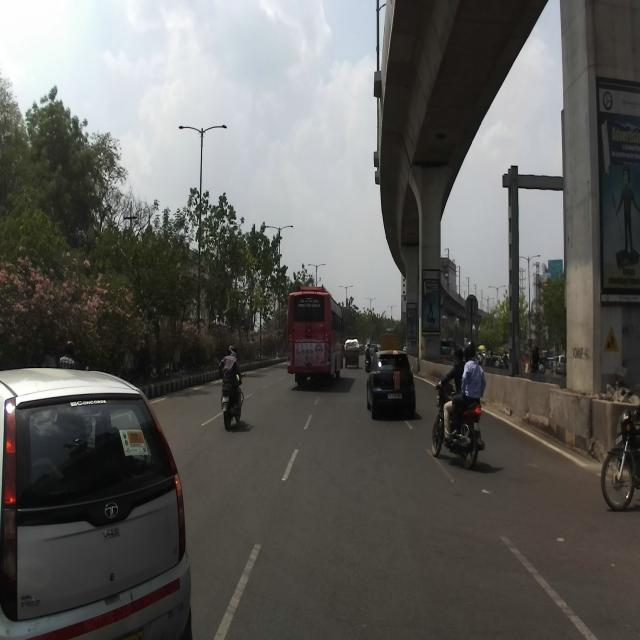car: (0, 368, 193, 639)
motorcycle: (431, 374, 484, 470), (600, 404, 640, 512)
